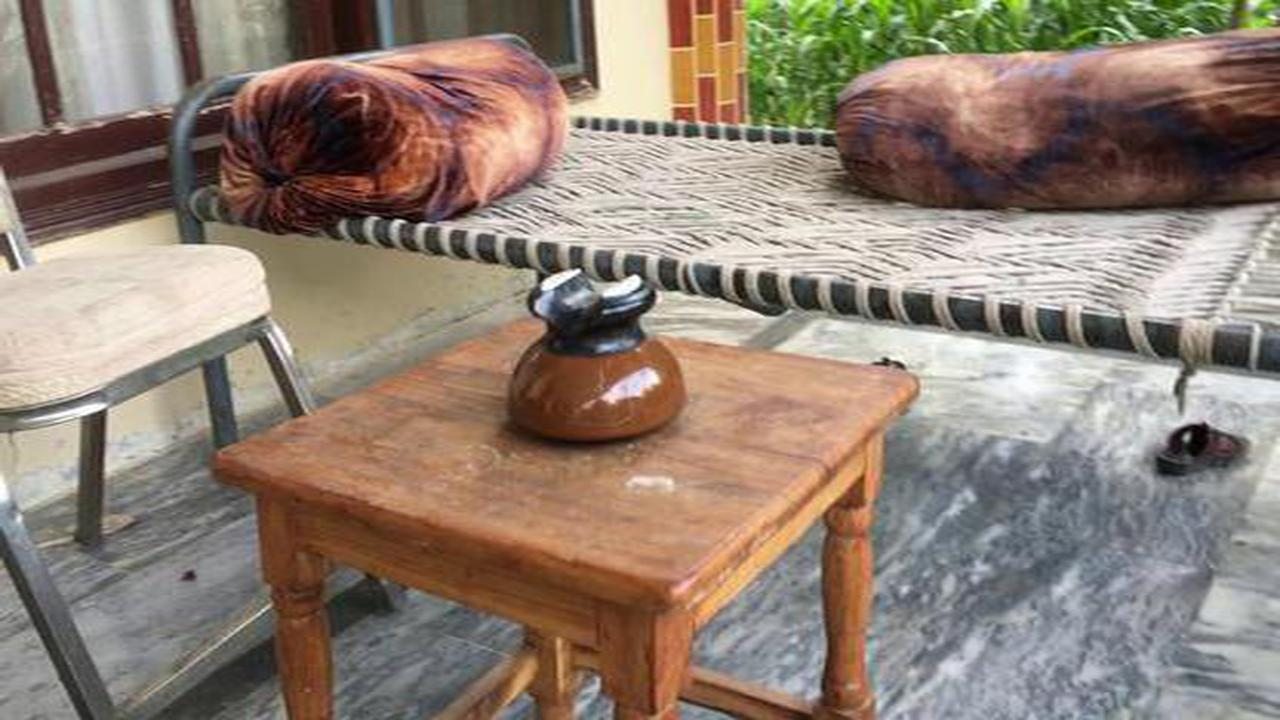insulator_pin: (490, 250, 702, 449)
